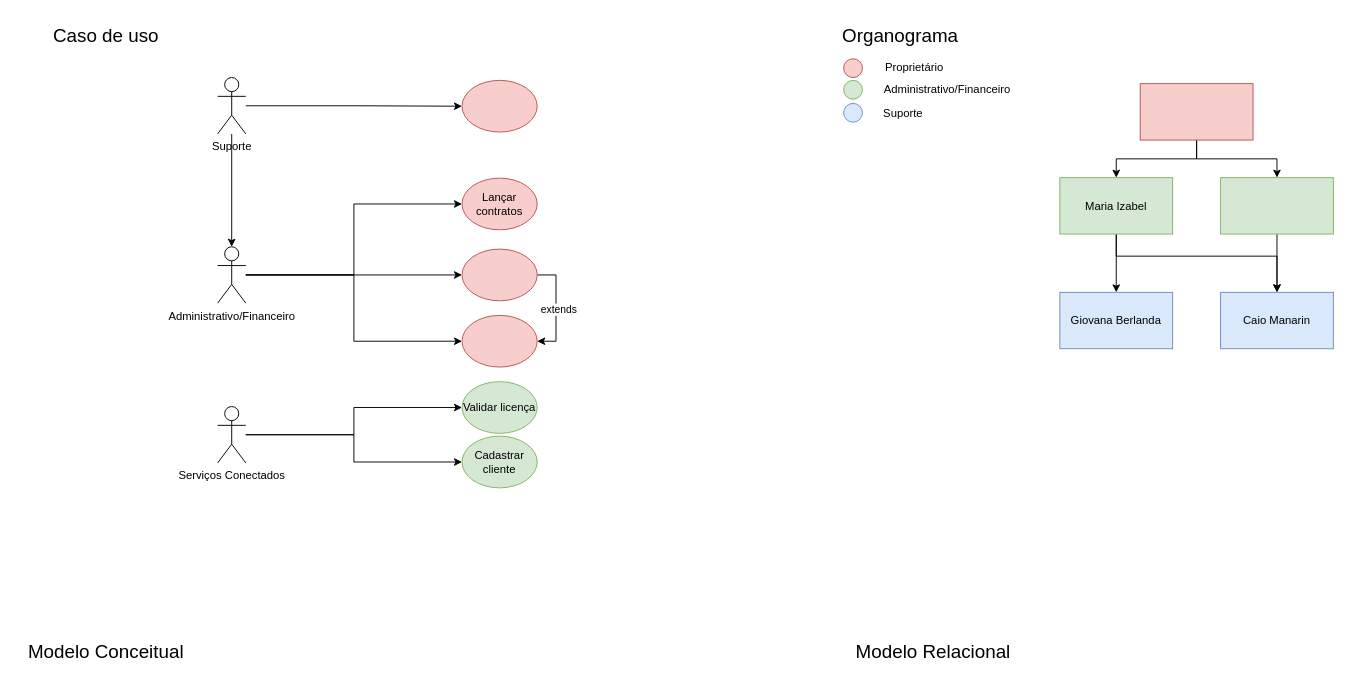
The diagram is 1350 pixels wide and 685 high, and some of its shapes have lost their labels. Here are the shapes that lost their labels. From the top down, the centre of each, then its label:
At point 499,105: "Lançar serviços".
At point 1196,111: "Milton Campagnolo".
At point 1276,205: "Vilson Gruchinski".
At point 499,274: "Bloquear Licenças".
At point 499,340: "Liberar Licenças".
